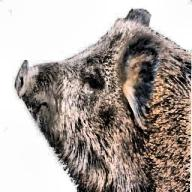boar: (13, 7, 192, 191)
